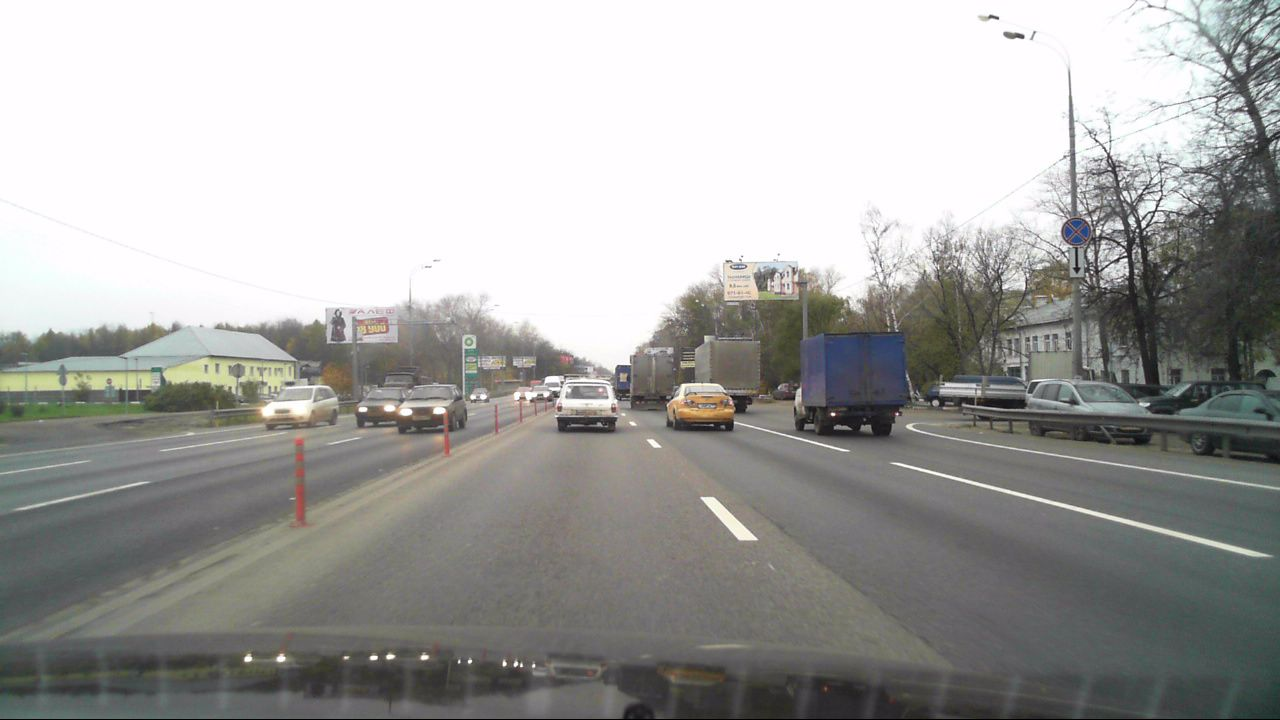No Parking: (1061, 218, 1091, 247)
